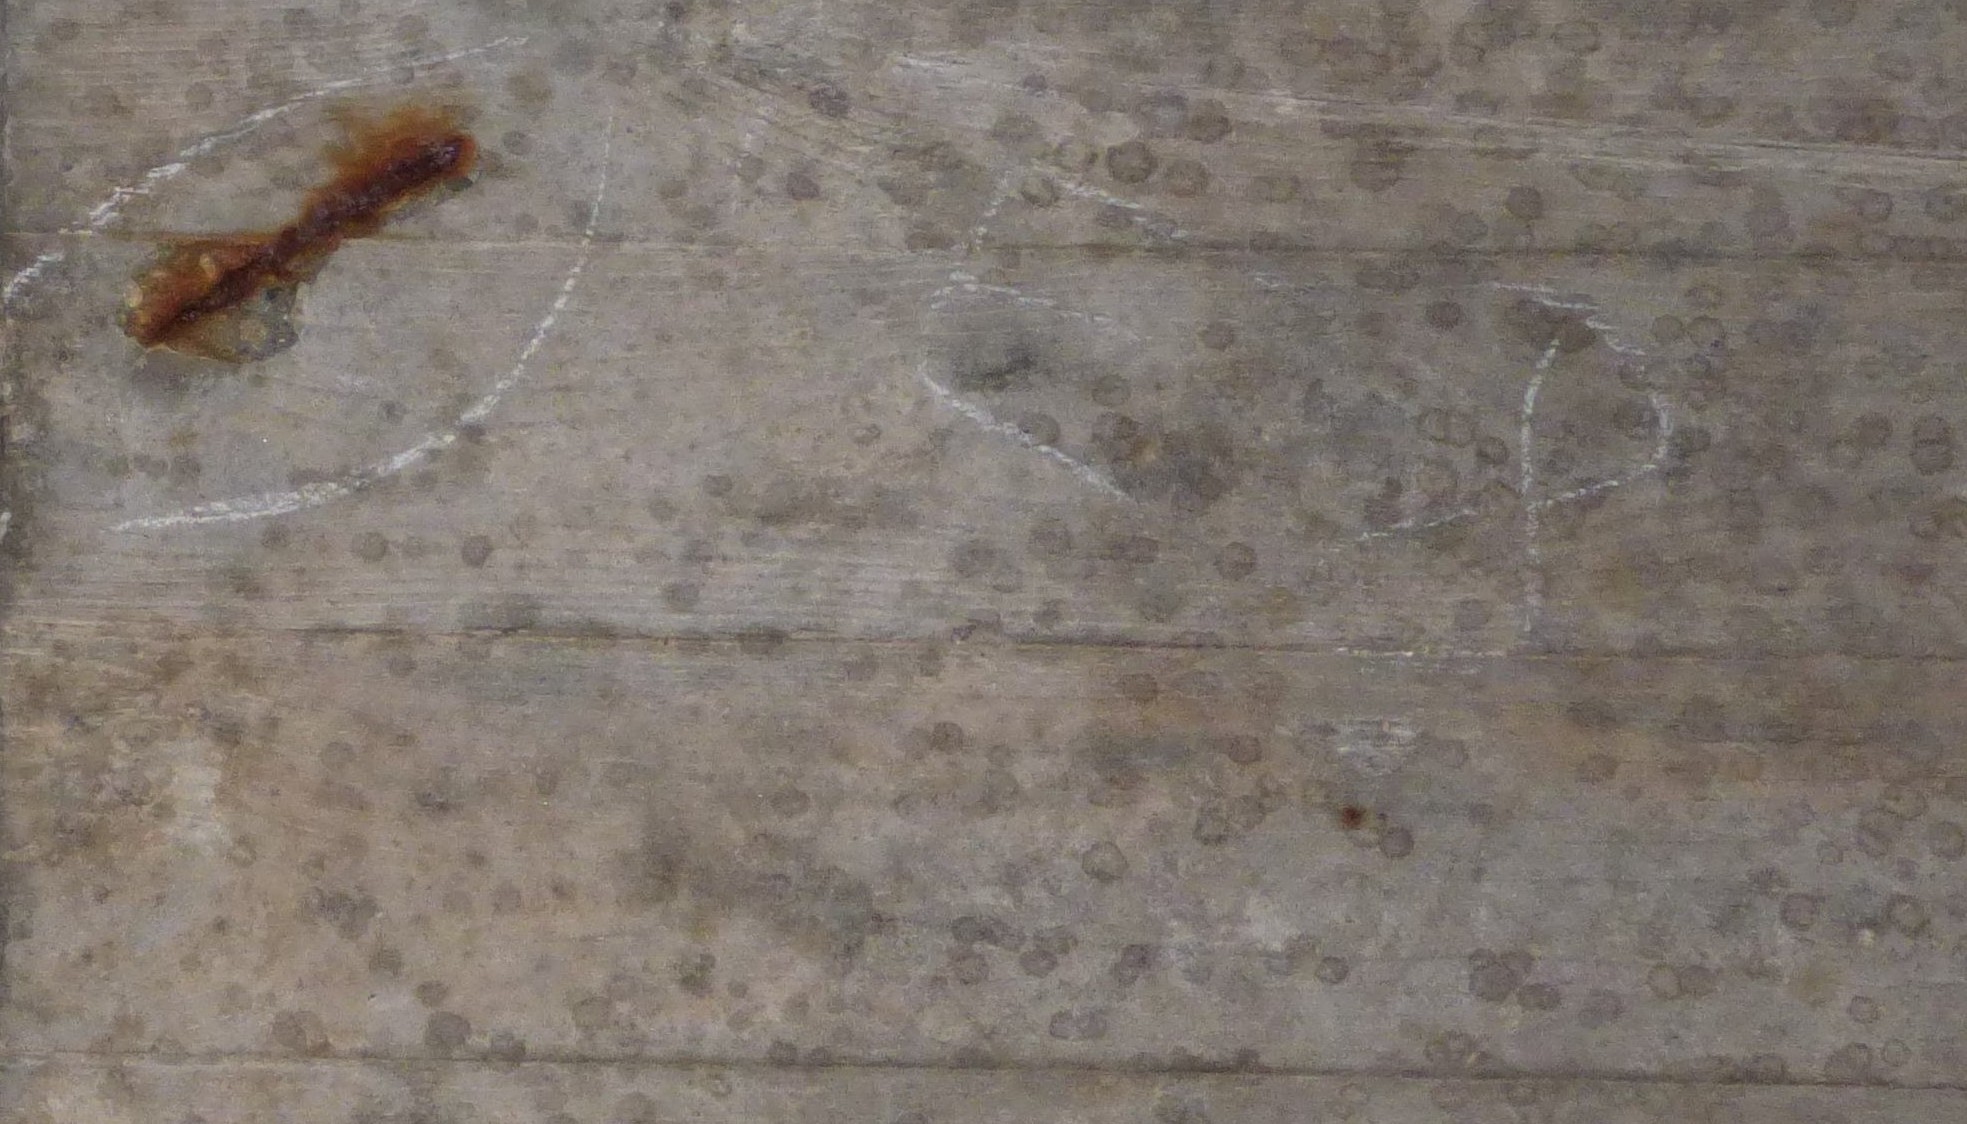Exposed reinforcement: (145, 143, 463, 349)
Spalling: (122, 240, 303, 366)
